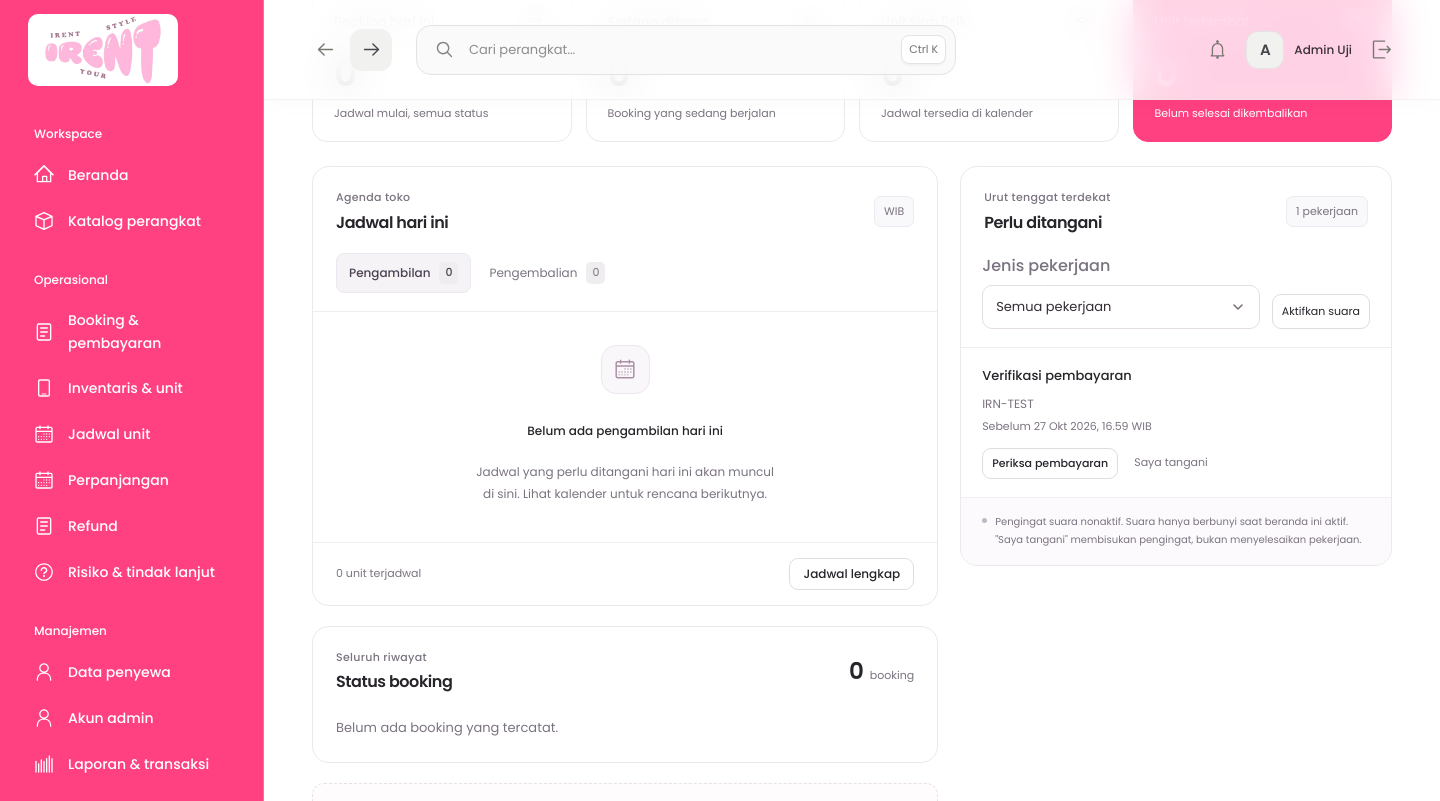
Test: acknowledges only the exact task version locally and disposes sound when leaving the dashboard
(page scrolled)
Expected: the heading "Perlu ditangani" is shown, [984, 212, 1111, 234]
Click the button "Saya tangani" at (1171, 463), box [1125, 448, 1217, 478]
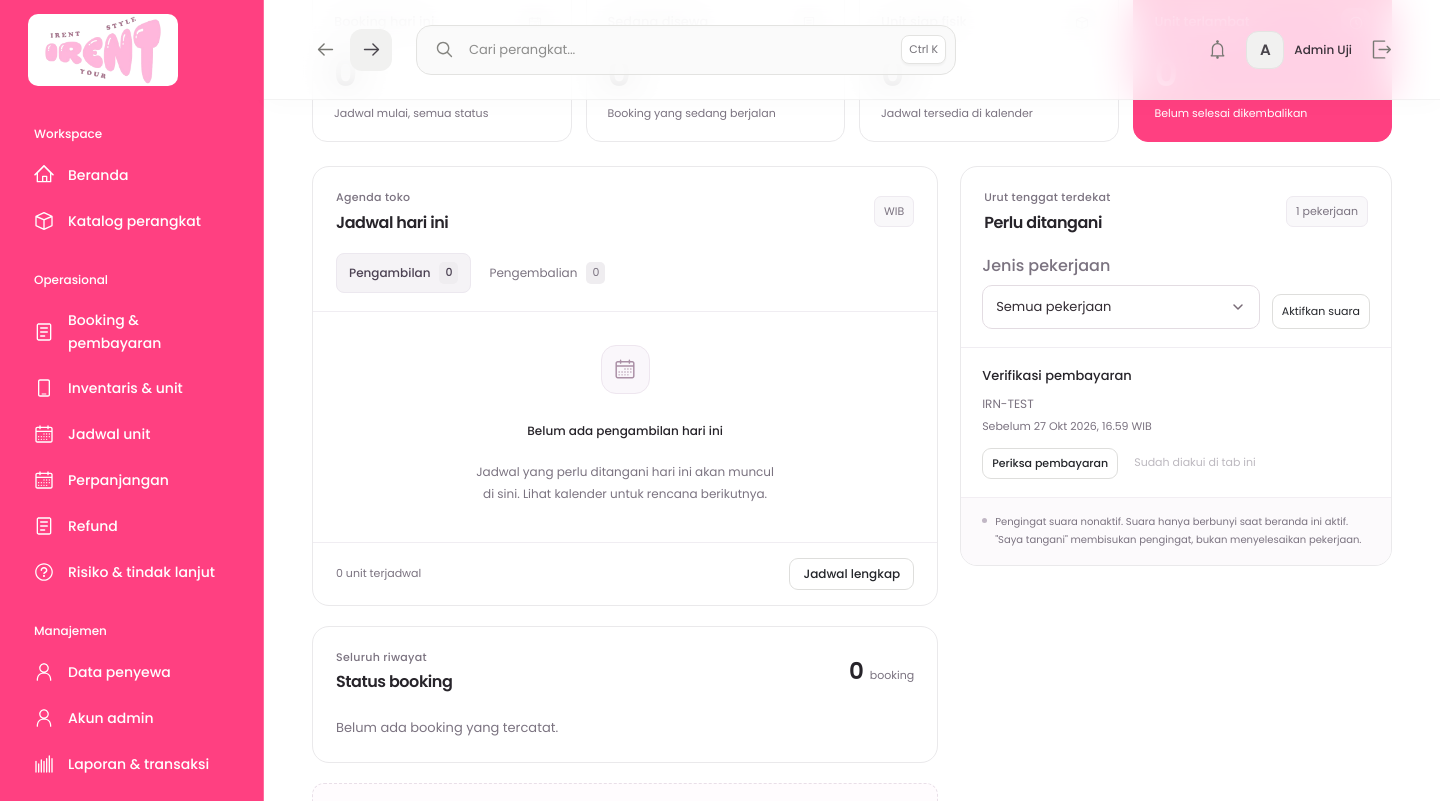
Expected: the button "Sudah diakui di tab ini" is disabled, [1125, 448, 1265, 478]
